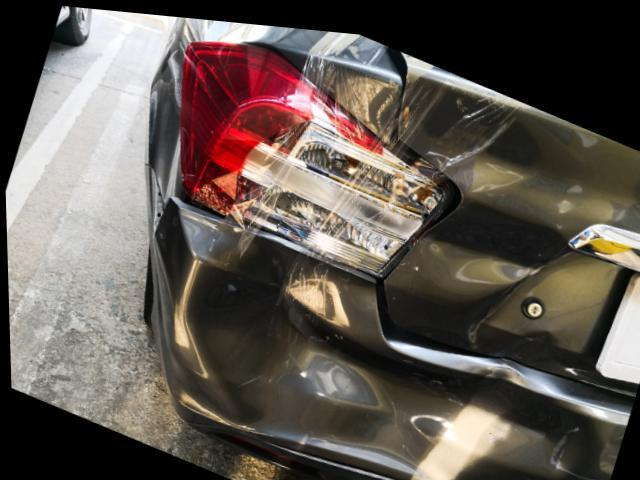dent: (184, 233, 593, 478), (403, 72, 554, 278)
lamp broken: (179, 36, 440, 270)
